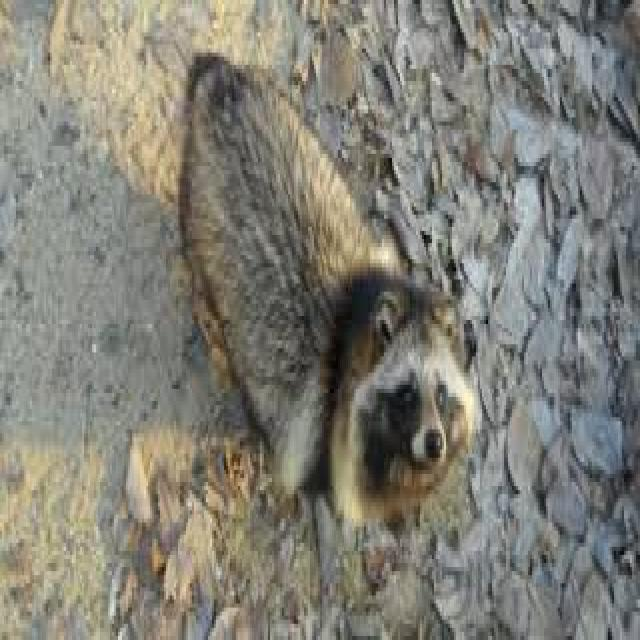racoon: (188, 39, 468, 547)
